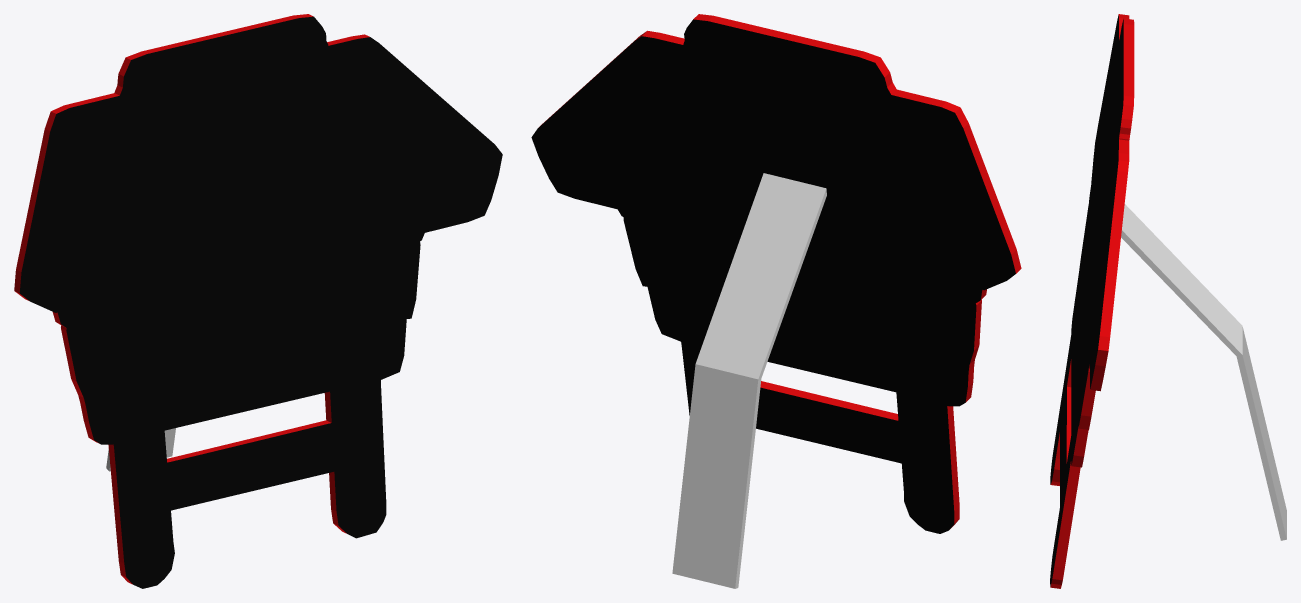
The model's file is football table cardboard.fbx.
3 views of the same model, side by side, from view 1: azimuth 30°, elevation 25°; view 2: azimuth 150°, elevation 25°; view 3: azimuth 270°, elevation 25° (orthographic). The views are drawn at different scales.
Parts seen in each view (by area): view 1: path1; view 2: path1, Plane; view 3: path1, Plane.
Boxes of the visible parts, x1,y1,x2,y2 form: path1: (14,14,502,588); path1: (531,14,1021,533); Plane: (672,173,826,588); path1: (1050,14,1134,588); Plane: (1121,204,1286,540).
Size of the model in its own units: 2202 by 2168 by 976.
